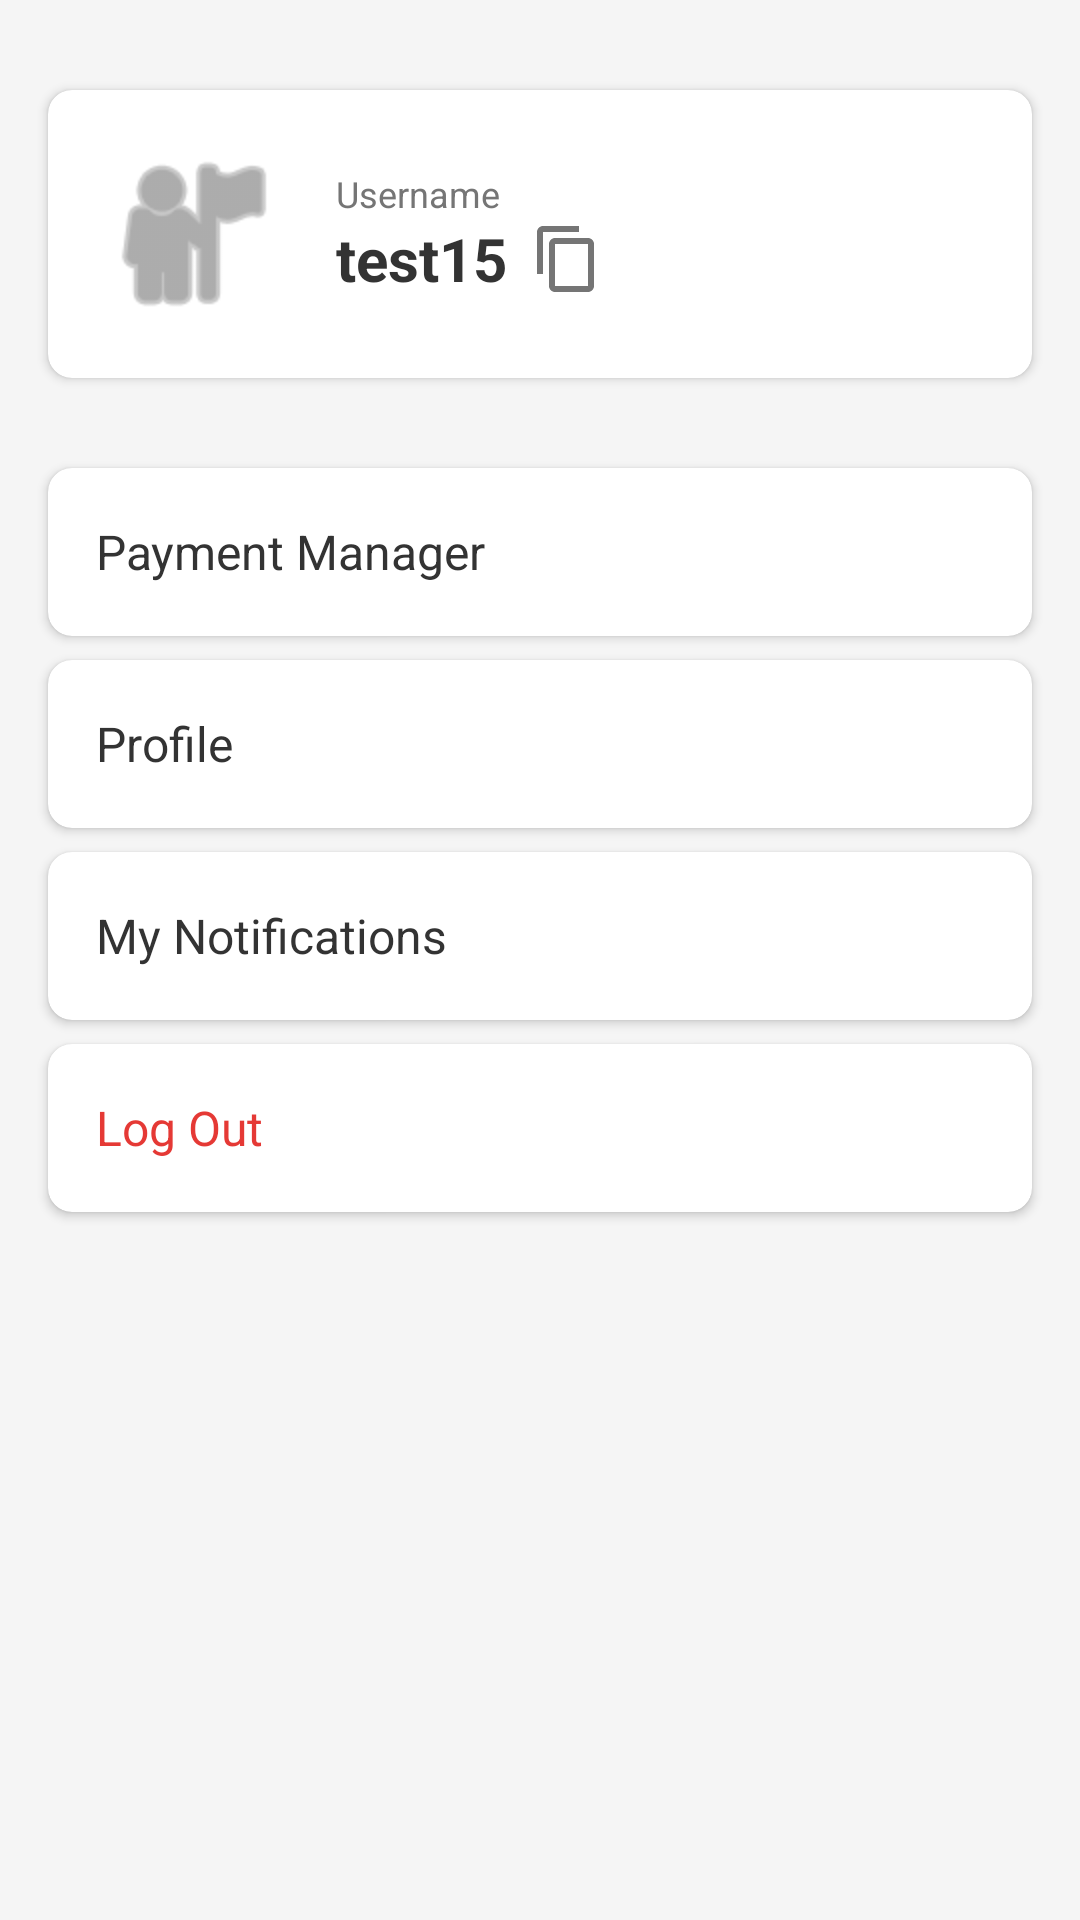

Screen size 1080*1920. Icon name, then its center in pixels as point (x, y):
myplaces: point (194, 234)
